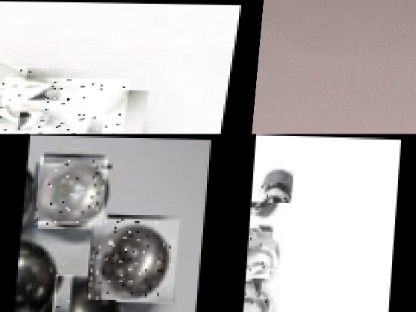ironball: (91, 213, 181, 298), (36, 154, 109, 223), (49, 275, 124, 312), (17, 237, 54, 312), (22, 152, 54, 236), (251, 154, 290, 206), (248, 228, 278, 269), (245, 287, 269, 312), (17, 302, 22, 312)
